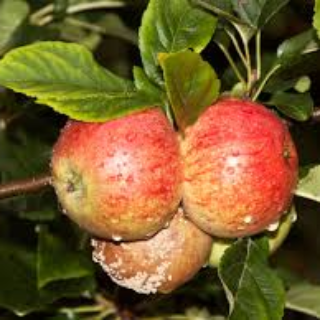tao: (46, 94, 177, 241), (181, 97, 300, 241)
